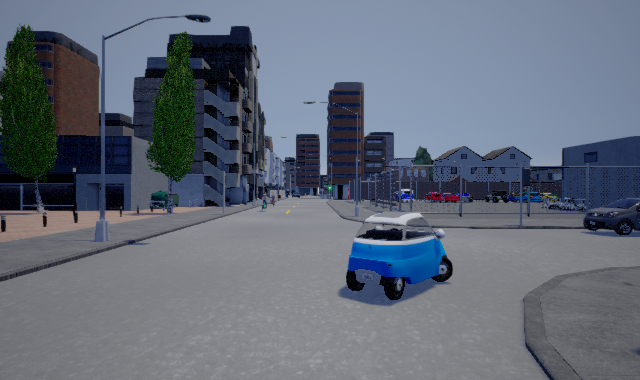vehicle: (346, 212, 453, 300), (583, 198, 640, 235)
